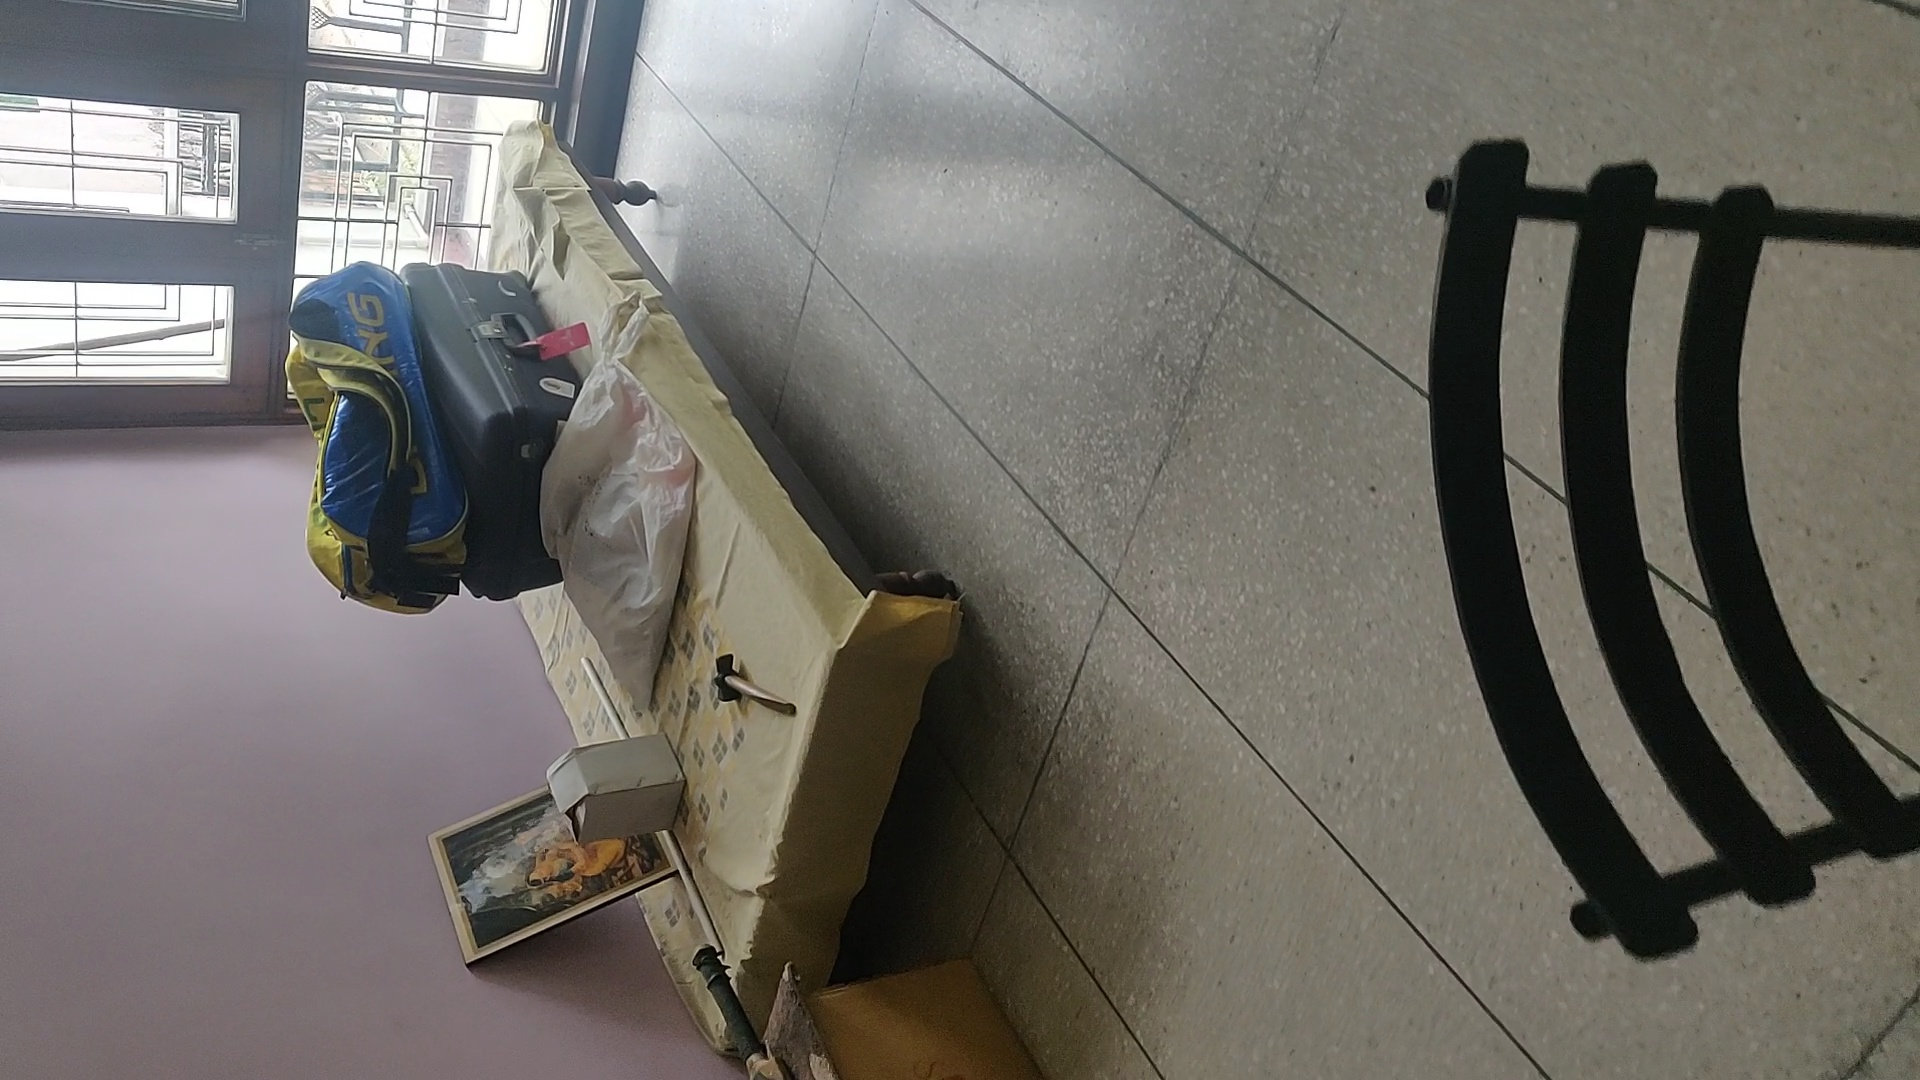hammer: (712, 651, 800, 724)
